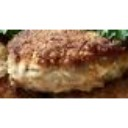cutlet: (9, 33, 124, 91)
